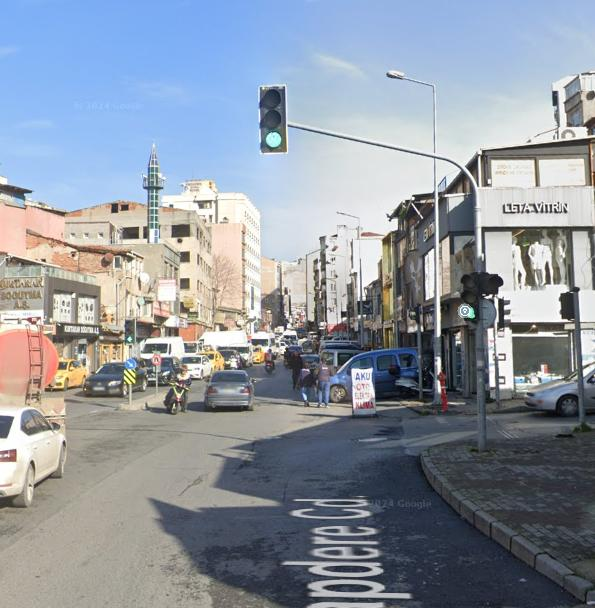greenlight: (257, 83, 286, 152), (461, 272, 482, 324)
